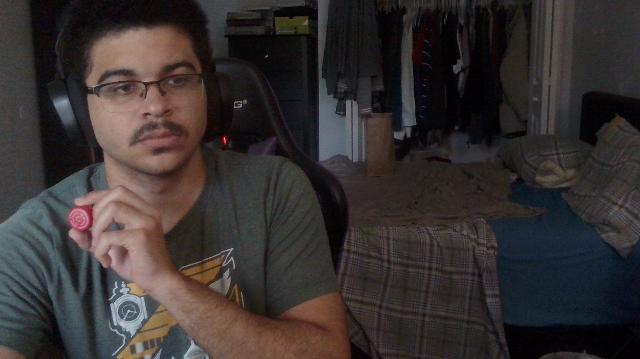cap: (68, 205, 94, 232)
